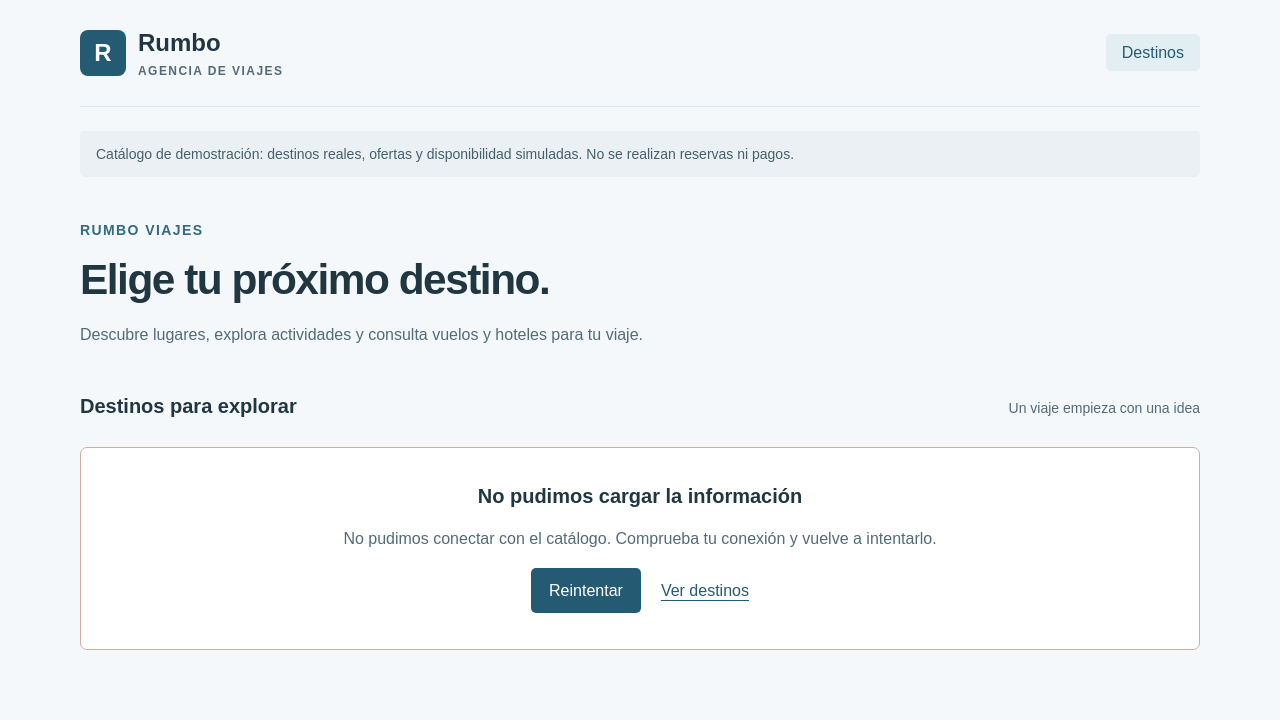
Test case: Catálogo REST de destinos › permite recuperarse de un error de red
Expected: the message shows "Comprueba tu conexión", [343,530,937,547]
Click the button "Reintentar". click: (586, 590)
box: [531,568,641,613]
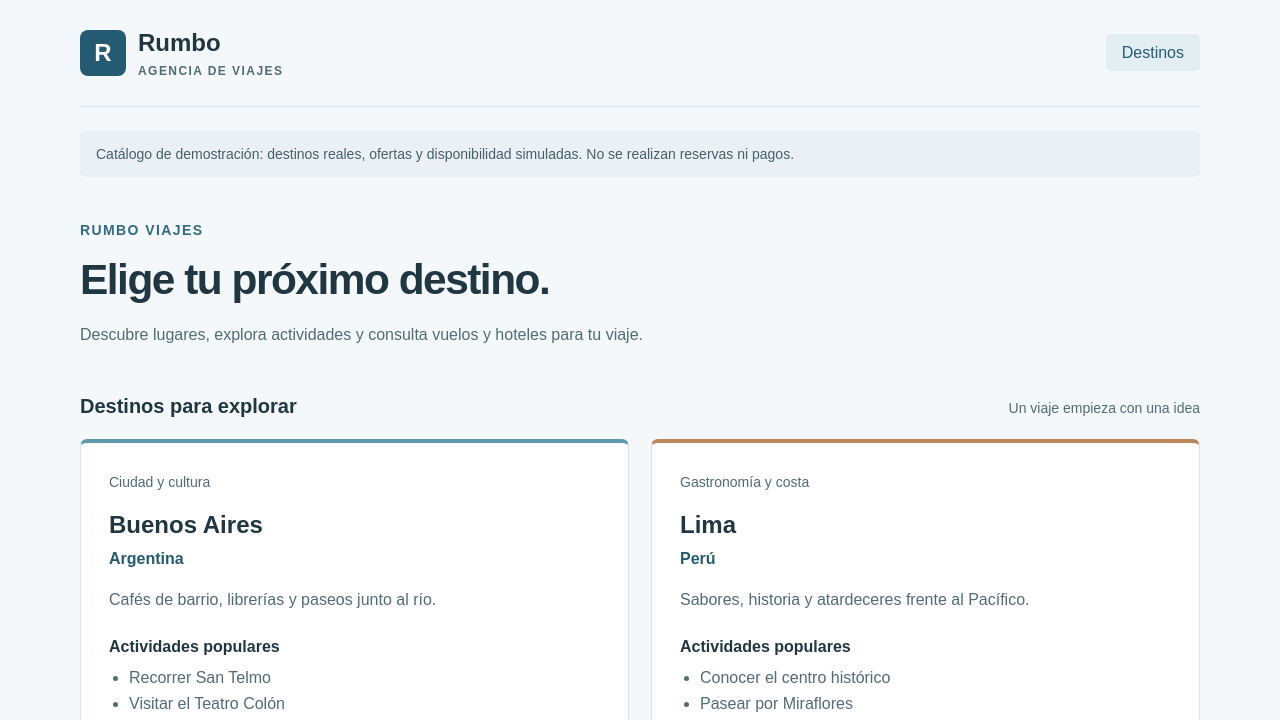
Result: the heading "Buenos Aires" is shown at [109,511,263,538]
